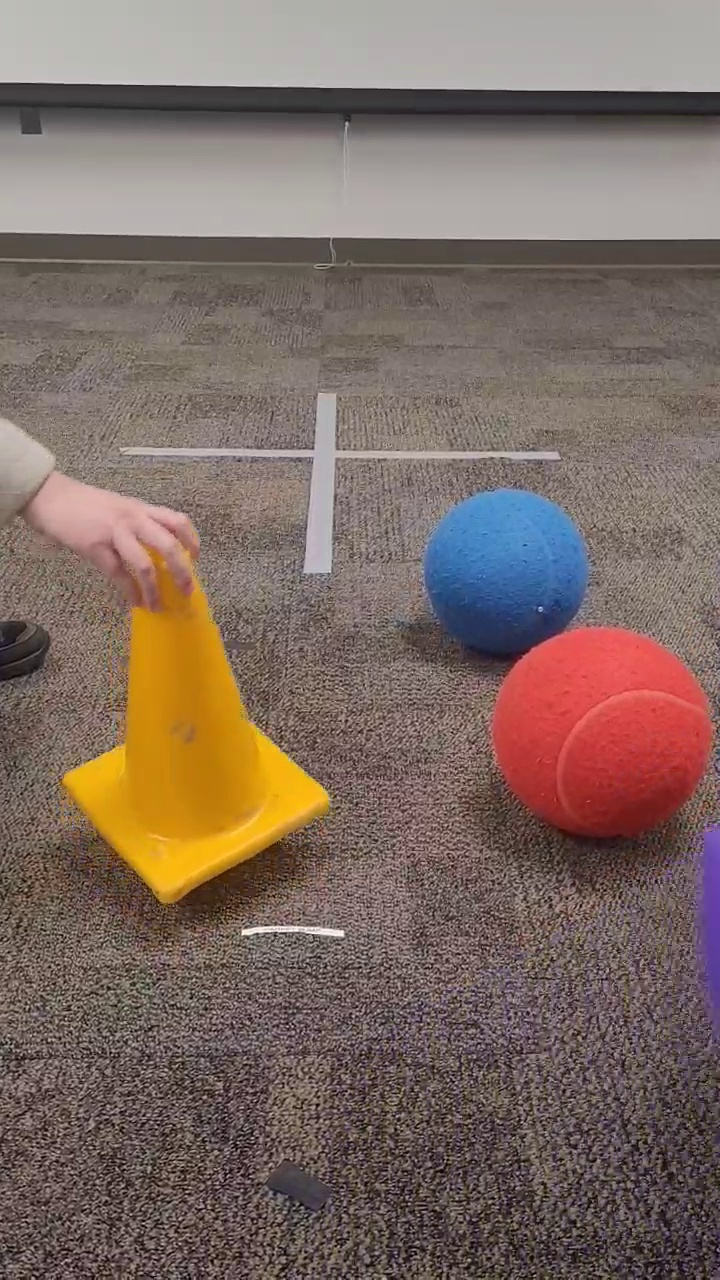ball: (485, 620, 714, 849), (421, 484, 590, 660)
cone: (47, 543, 336, 913)
cube: (693, 802, 720, 1057)
foot: (1, 609, 54, 688)
hand: (1, 410, 207, 612)
